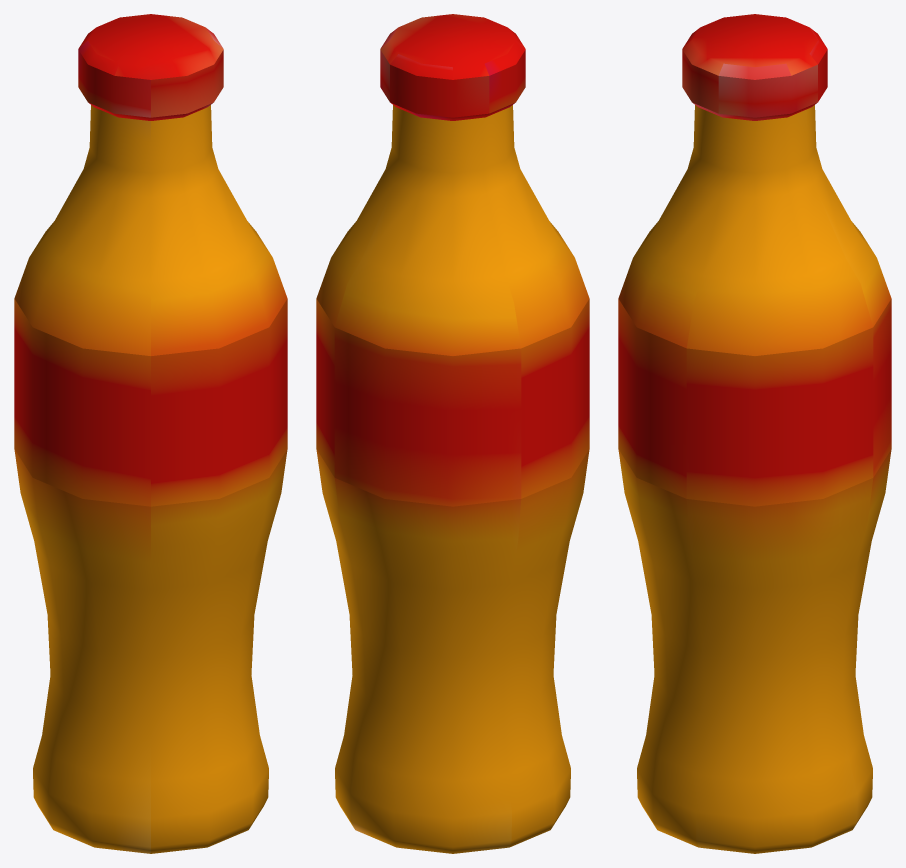
File: Bottle1.fbx
3 renders of one model, left to right at view 1: azimuth 30°, elevation 25°; view 2: azimuth 150°, elevation 25°; view 3: azimuth 270°, elevation 25°, orthographic.
Parts seen in each view (by area): view 1: Bottle1; view 2: Bottle1; view 3: Bottle1.
Boxes of the visible parts, x1=… form: Bottle1: x1=14, y1=14, x2=287, y2=853; Bottle1: x1=316, y1=14, x2=589, y2=853; Bottle1: x1=618, y1=14, x2=891, y2=853.
Bounding box in the file's own units: 4.04 × 12.56 × 4.04.
